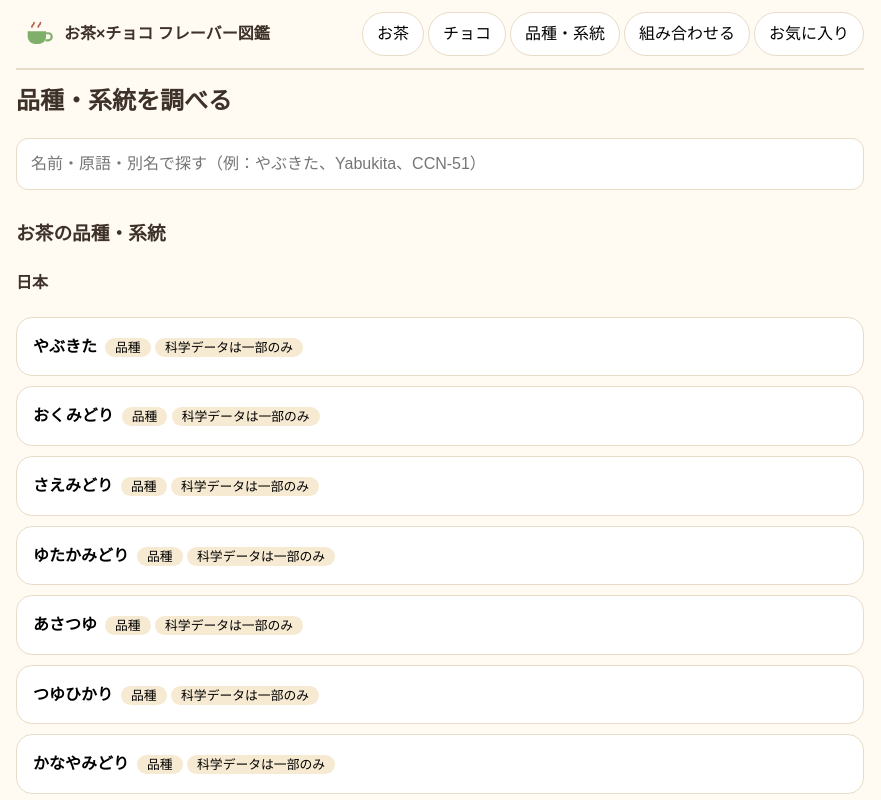
Test: 品種・系統データベースの画面連携 › 別名（ローマ字）で検索できる
Type "Yabukita" into the search field named "品種・系統を検索".
click(440, 164); type("Yabukita")  # box [16,138,864,190]
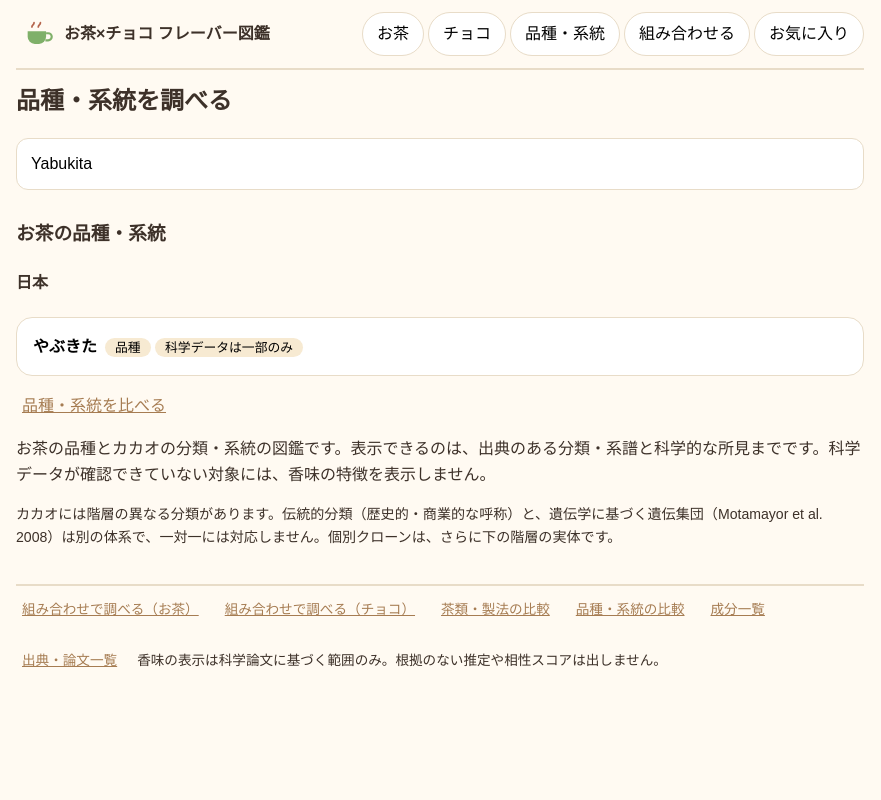
Check: the text "やぶきた" is shown, box [33,334,97,359]
Check: the button "おくみどり" is gone
